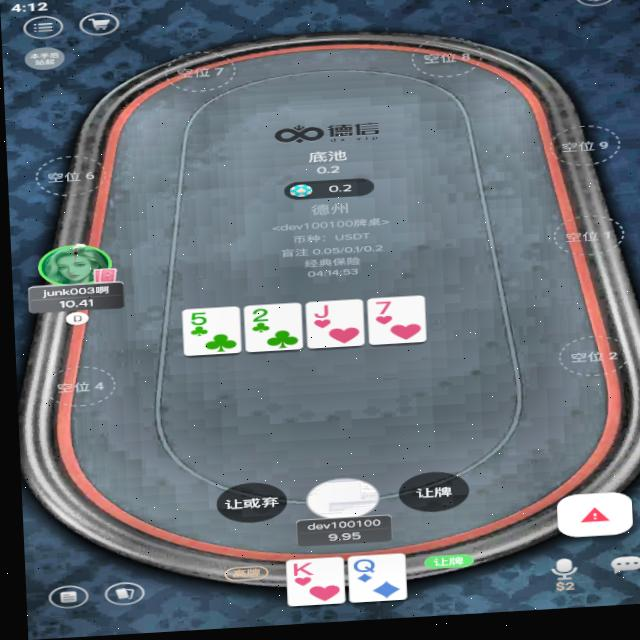2m: (243, 309, 270, 327)
5m: (183, 311, 210, 329)
7h: (367, 303, 394, 321)
Jh: (307, 307, 332, 324)
Kh: (285, 565, 307, 581)
Qf: (346, 561, 372, 579)
